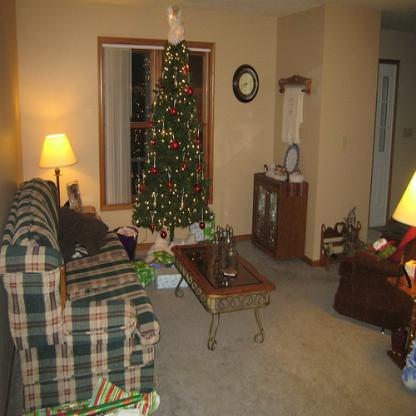chair: (335, 217, 415, 332)
sofa: (0, 176, 162, 412)
